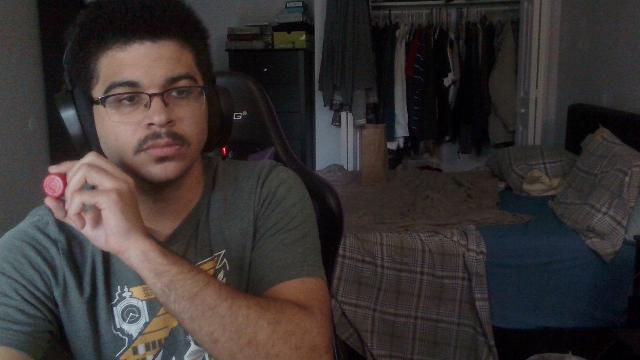cap: (43, 172, 67, 198)
